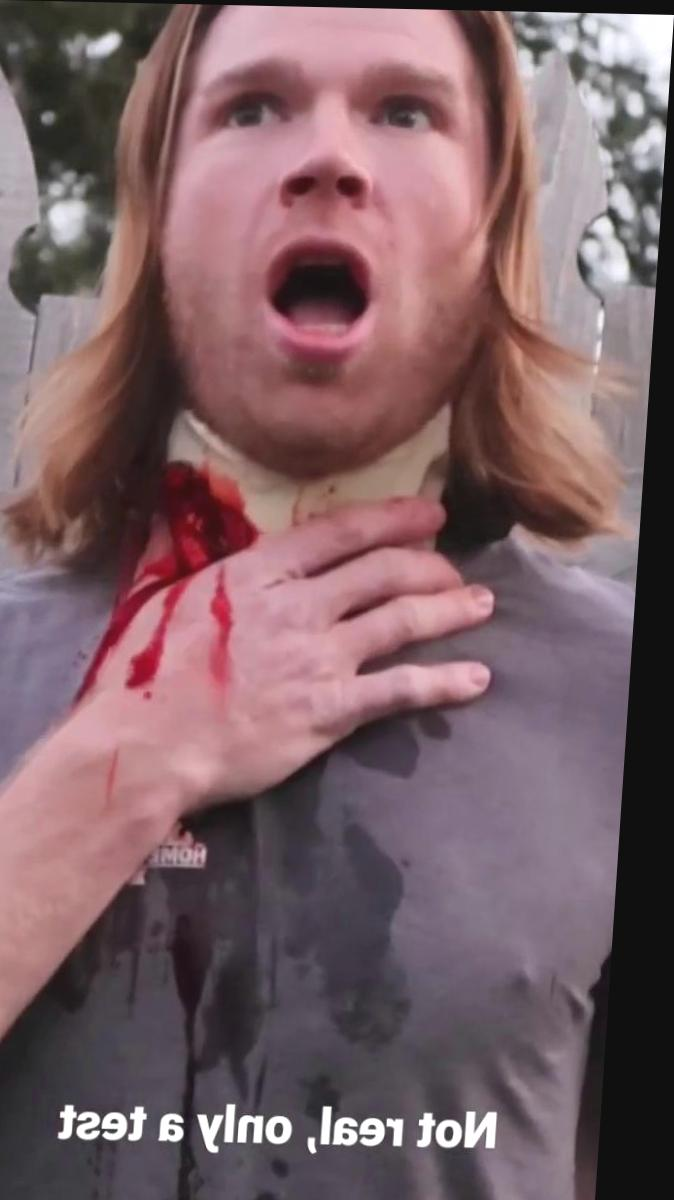Fire: (87, 461, 266, 700), (218, 567, 243, 686)
